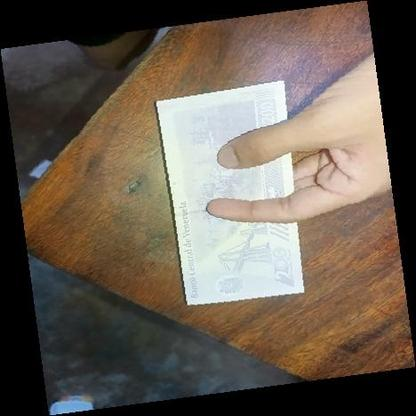two_hundred-back-vef: (155, 80, 304, 306)
